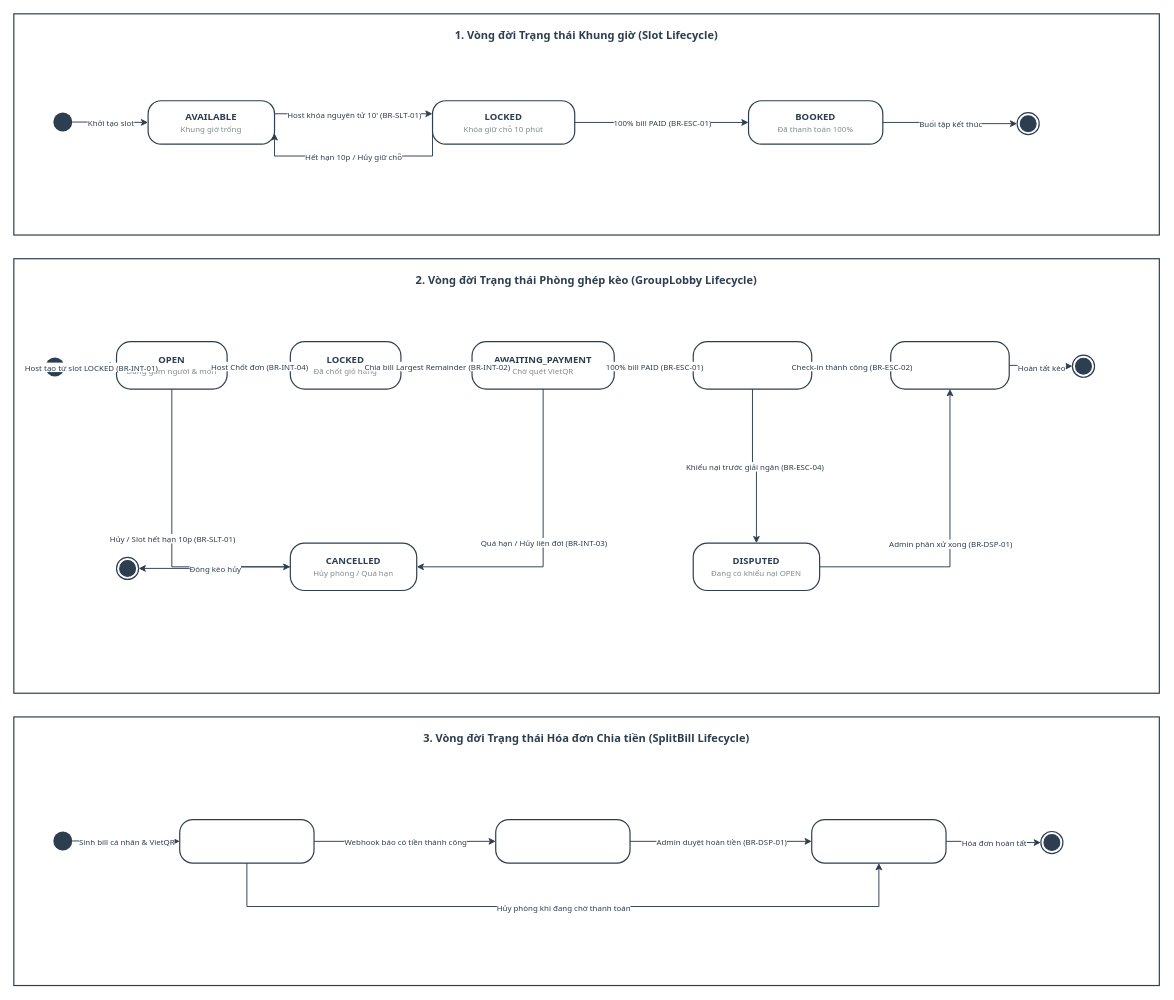
Some shapes in this 1174 by 1000 pixel diagram are drawn without their labels. The shapes that lost their labels are listed below. From the top down, each one's centre as x and y in pixels, then its label:
At (752,365): "PAID 100% đã trả tiền".
At (949,365): "COMPLETED Check-in & Giải ngân".
At (246,841): "PENDING Chờ quét VietQR cá nhân".
At (562,841): "PAID Đã thanh toán Napas 247".
At (878,841): "REFUNDED Hoàn tiền cọc / giải quyết khiếu nại".
